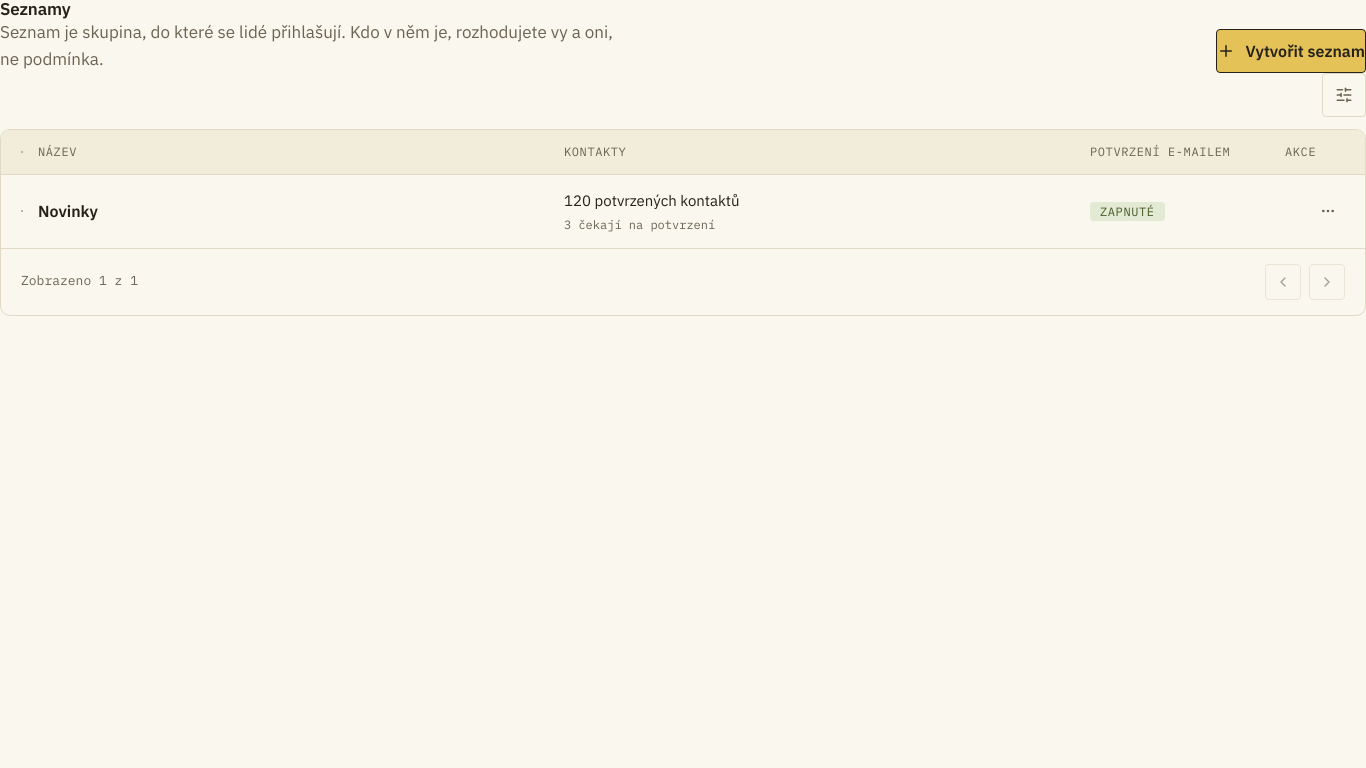
it: nabídka „…" v řádku seznamu › potvrzení čekajících se ptá a říká, co uživatel prohlašuje
Click the button named "Další akce se seznamem" at (1328, 211), box top-left (1311, 194), bottom-right (1345, 228)
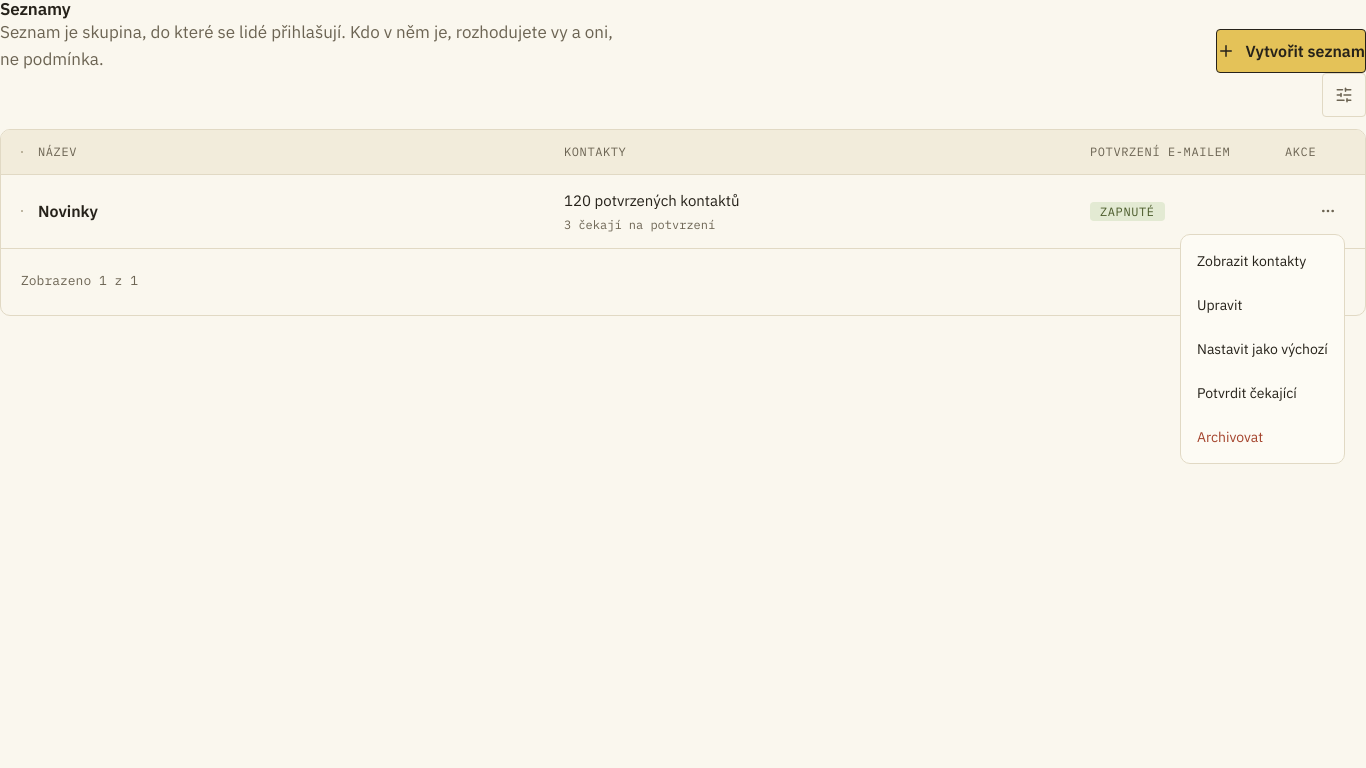
Click the menu item "Potvrdit čekající" at (1247, 393), box top-left (1197, 384), bottom-right (1297, 402)
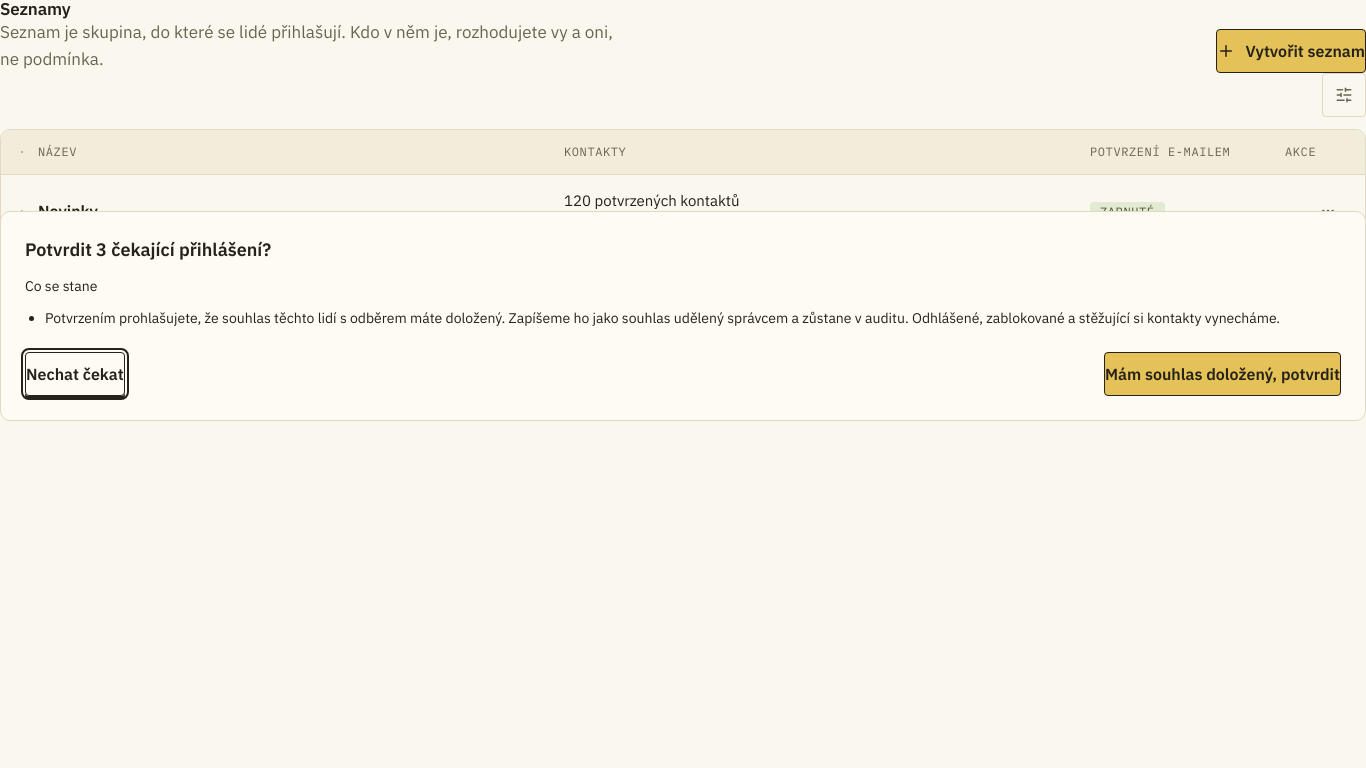
Expected: the heading "Potvrdit 3 čekající přihlášení?" is shown, top-left (25, 238), bottom-right (271, 261)
Expected: the list item "souhlas těchto lidí s odběrem máte doložený" is shown, top-left (45, 309), bottom-right (1280, 327)
Click the button "Mám souhlas doložený, potvrdit" at (1222, 374), box top-left (1104, 352), bottom-right (1341, 396)
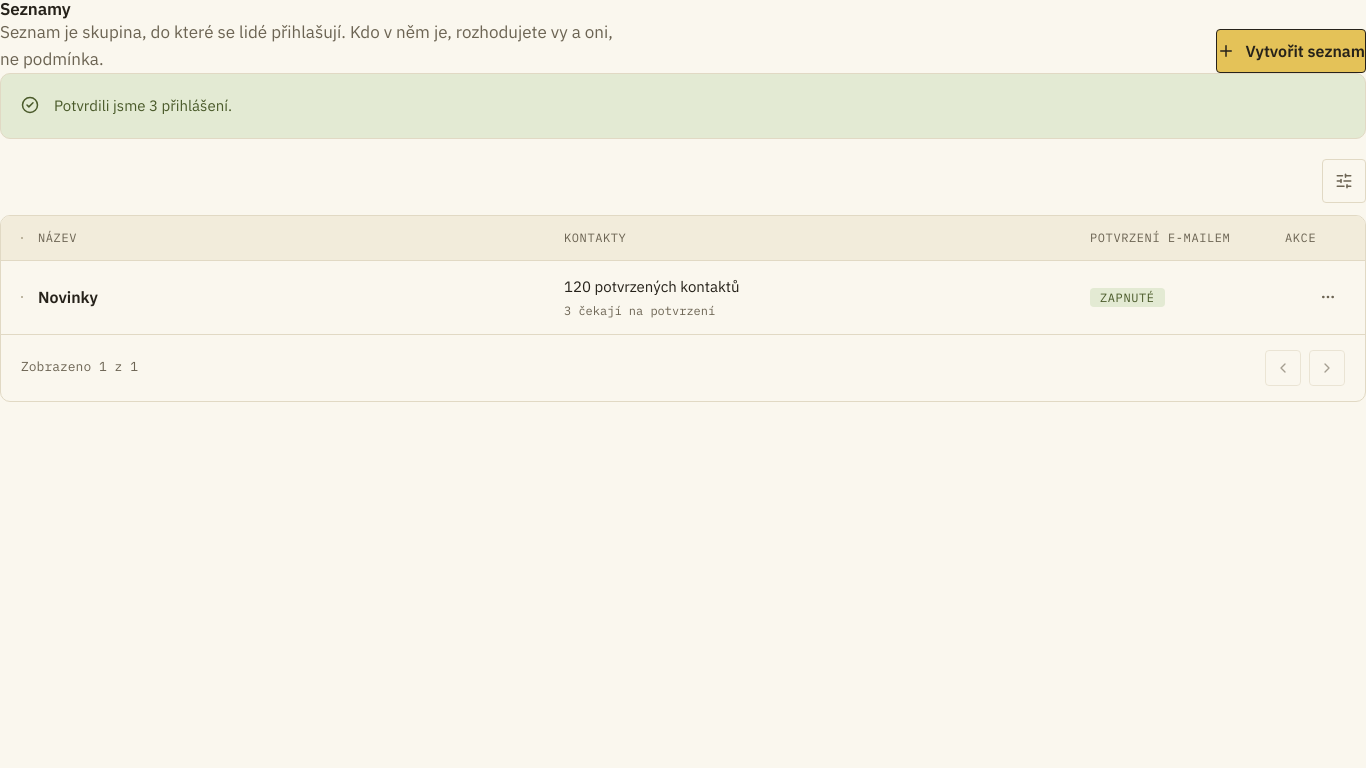
Expected: the message with test id "lists-notice" reads "Potvrdili jsme 3 přihlášení.", top-left (54, 96), bottom-right (232, 115)
